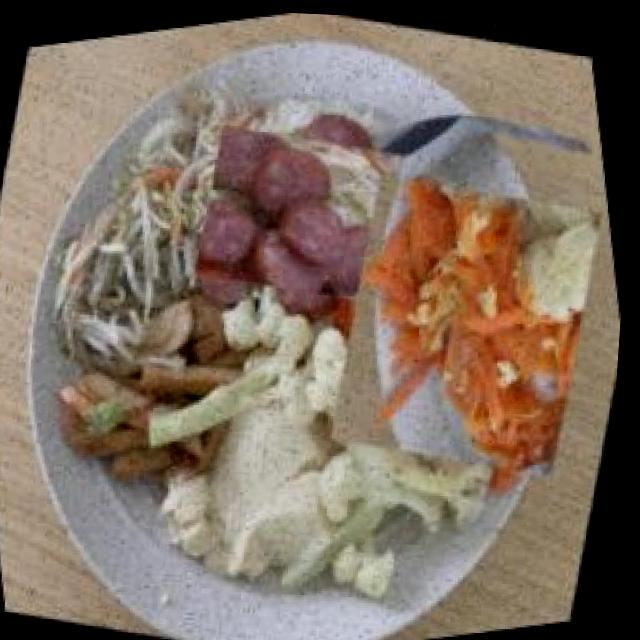carrot_eggs: (286, 129, 634, 510)
chinese_sausage: (156, 76, 429, 345)
mung_bean_sprouts: (13, 39, 278, 371)
